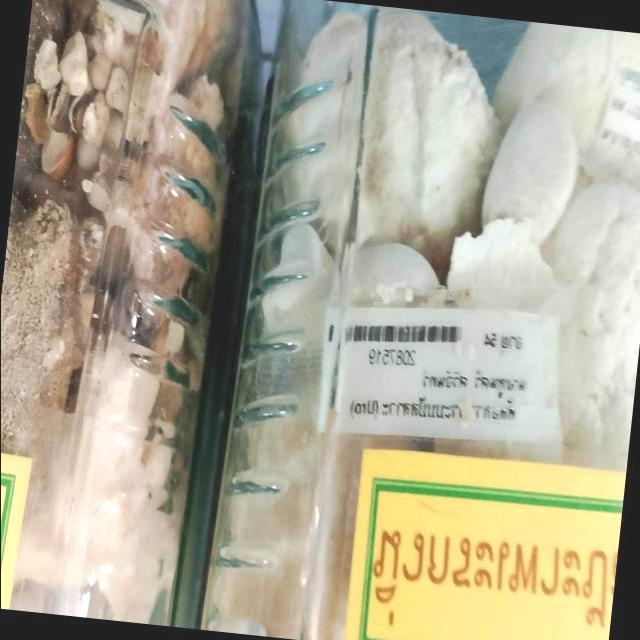General: (4, 2, 638, 637)
Sharps: (49, 2, 166, 615), (214, 75, 335, 573), (298, 5, 382, 639)
